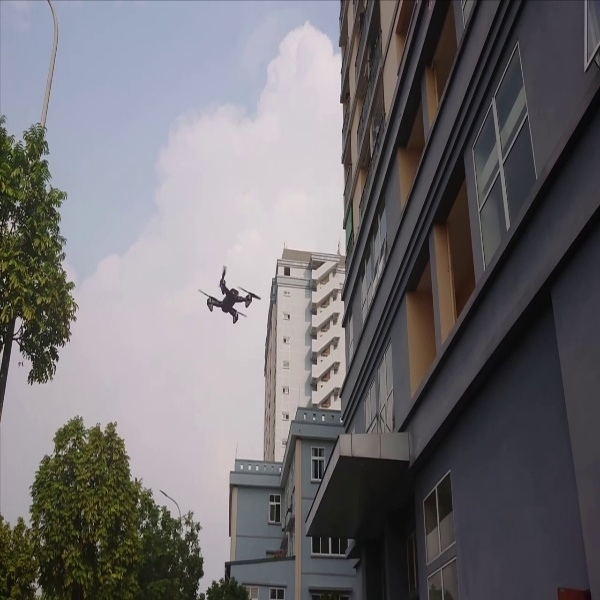drone: (190, 261, 265, 331)
